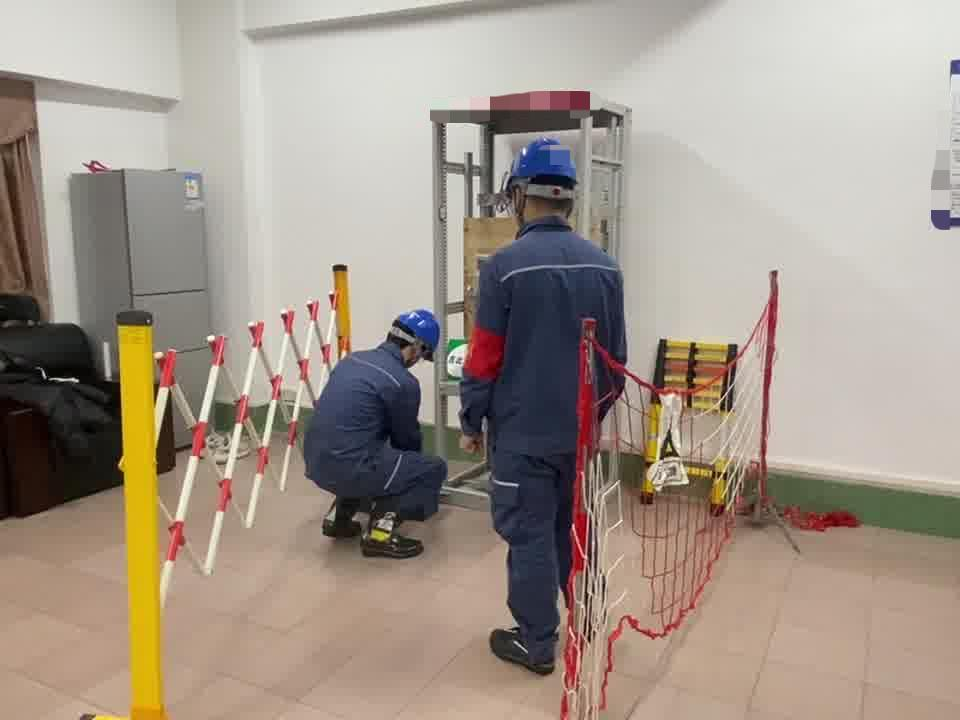halt: (506, 138, 584, 227), (391, 312, 445, 368)
inear: (509, 186, 534, 223), (407, 343, 428, 367)
